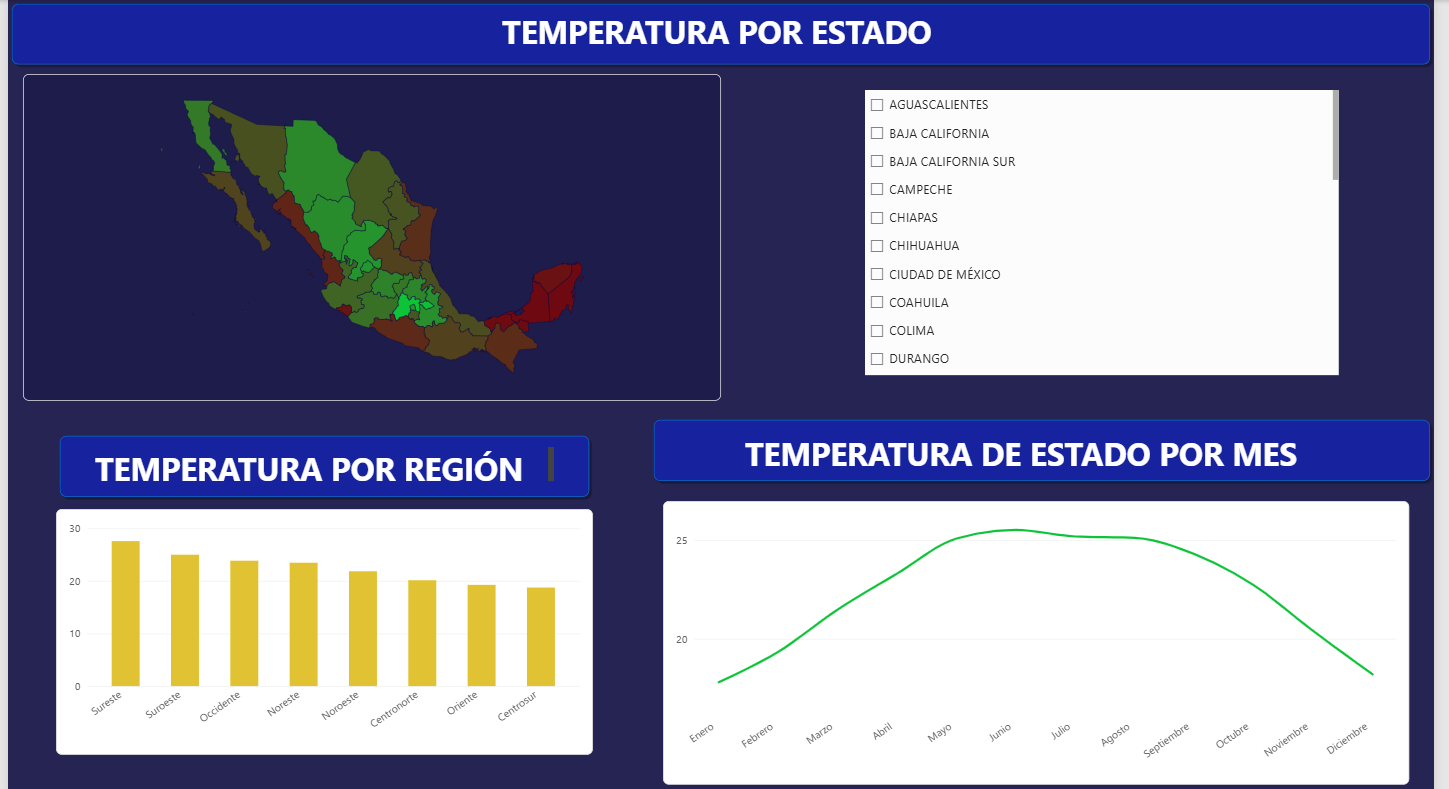

What the dashboard file says about the page in this screenshot:
{"tool":"powerbi","page":{"name":"Página 2","canvas":[1920,1080],"ordinal":1},"visuals":[{"type":"shapeMap","fields":{"Category":["vw_RankingEstados.nombre_entidad"],"Value":["Sum(vw_RankingEstados.temperatura_promedio)"]},"box":[20.5,99.7,940.2,440],"z":0},{"type":"shape","box":[0,0,1920,91.9],"z":1000},{"type":"textbox","box":[20.5,13.2,1880.4,67.5],"z":2000},{"type":"clusteredColumnChart","fields":{"Category":["vw_RankingEstados.region"],"Y":["vw_Estacionalidad.Promedio Regional"]},"box":[64.5,685,723.1,331.5],"z":3000},{"type":"lineChart","fields":{"Category":["vw_TempEstadoMes.nombre_mes"],"Y":["vw_Estacionalidad.Promedio Mes Estado"]},"box":[881.8,674.8,1004.6,382],"z":4000},{"type":"slicer","fields":{"Values":["vw_TempEstadoMes.nombre_entidad"]},"box":[1154.4,121.2,637.8,383.7],"z":5000},{"type":"shape","box":[864.9,560.4,1055.1,92.6],"z":6000},{"type":"textbox","box":[992.8,582.2,799.3,92.6],"z":7000},{"type":"shape","box":[64.5,582.3,723.1,92.4],"z":7001},{"type":"textbox","box":[1770,100,150,440],"z":7002},{"type":"textbox","box":[117.3,601.4,617.5,51.3],"z":7003}]}

Visuals, with their boxes on the page's 1920x1080 design canvas (x1, y1, x2, y2). These are canvas units, not pixel positions in the 1449x789 screenshot, which may show the page scaled, cropped or inside an application window:
shapeMap - vw_RankingEstados.nombre_entidad x Sum(vw_RankingEstados.temperatura_promedio): box(20, 100, 961, 540)
shape: box(0, 0, 1920, 92)
textbox: box(20, 13, 1901, 81)
clusteredColumnChart - vw_RankingEstados.region x vw_Estacionalidad.Promedio Regional: box(64, 685, 788, 1016)
lineChart - vw_TempEstadoMes.nombre_mes x vw_Estacionalidad.Promedio Mes Estado: box(882, 675, 1886, 1057)
slicer - vw_TempEstadoMes.nombre_entidad: box(1154, 121, 1792, 505)
shape: box(865, 560, 1920, 653)
textbox: box(993, 582, 1792, 675)
shape: box(64, 582, 788, 675)
textbox: box(1770, 100, 1920, 540)
textbox: box(117, 601, 735, 653)
